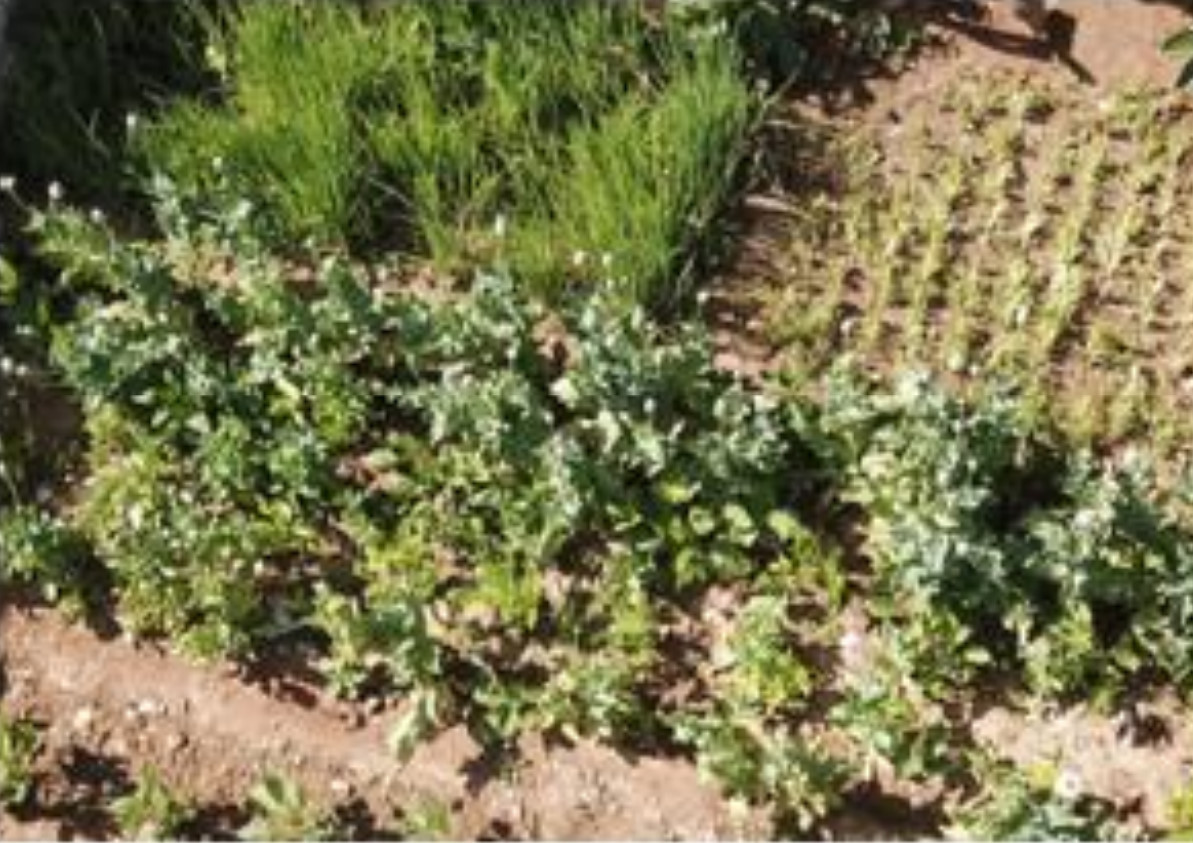Poppy: (413, 272, 802, 495), (4, 154, 196, 426), (818, 348, 1018, 609), (209, 199, 400, 441), (1027, 442, 1193, 628)
